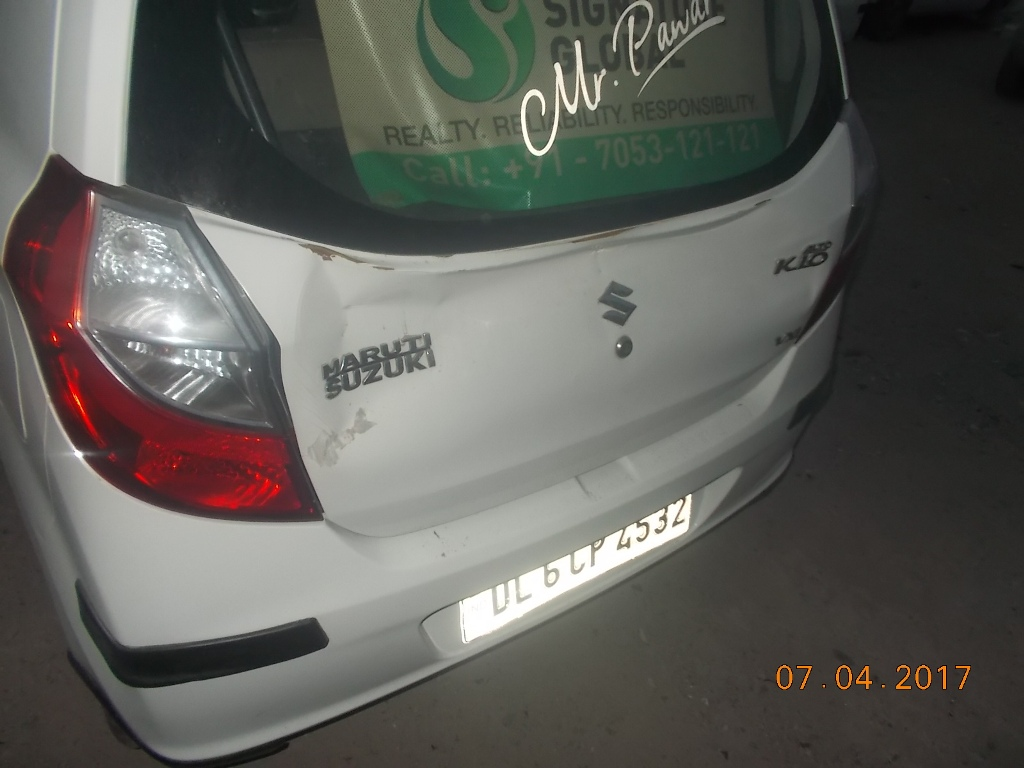Dent: (290, 252, 473, 457)
